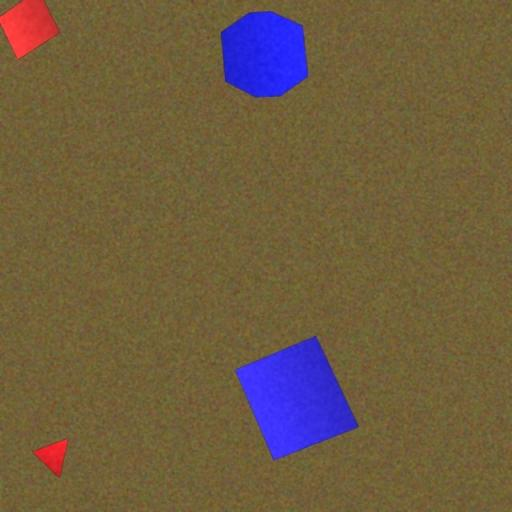BLUE_SQUARE: (234, 335, 360, 461)
RED_SQUARE: (0, 0, 61, 61)
